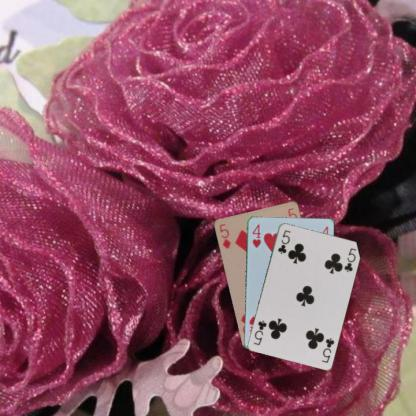4h: (250, 221, 262, 249)
5c: (275, 227, 292, 255), (319, 335, 335, 364)
5d: (217, 221, 232, 250)
